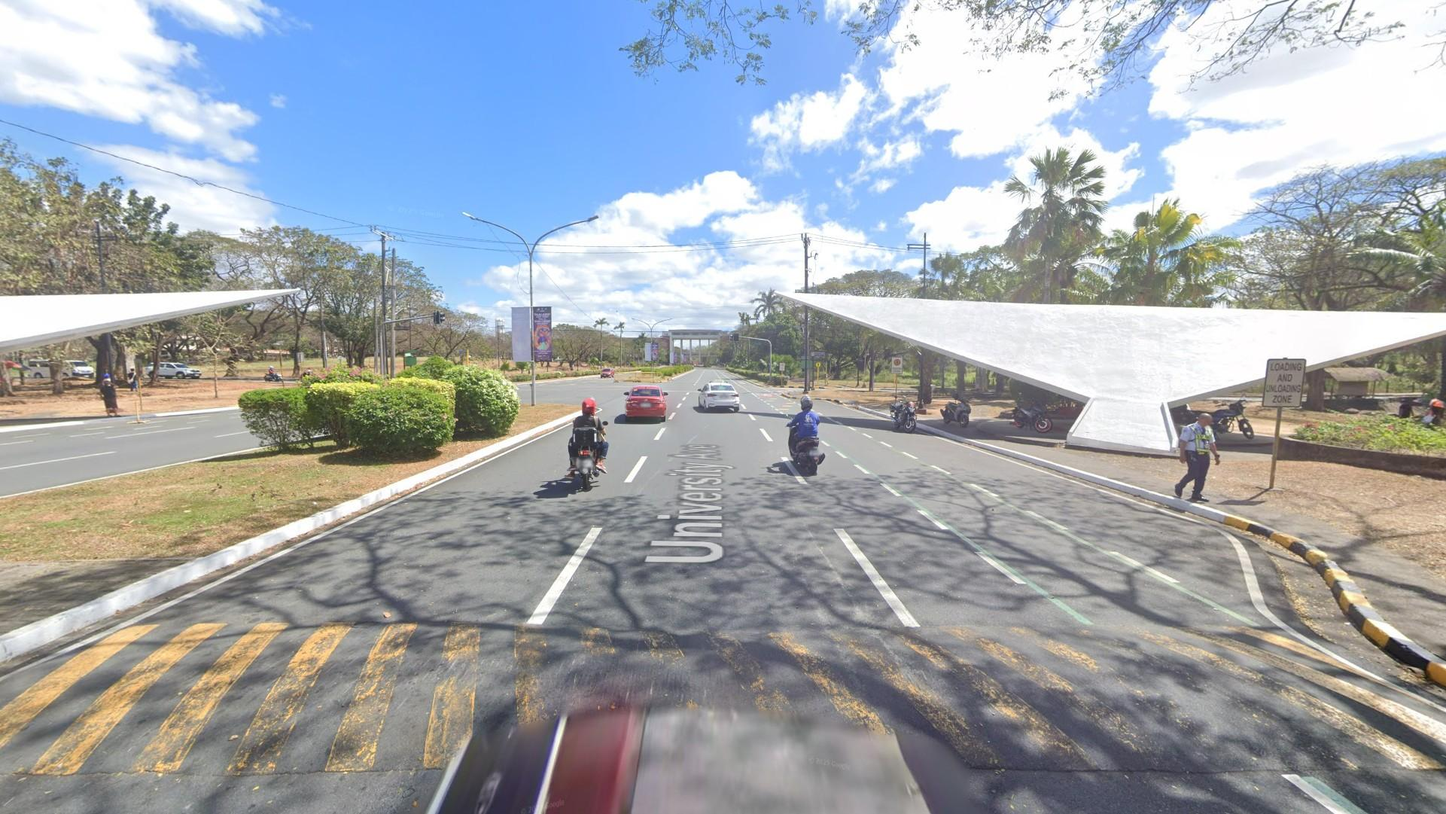pedestrian: (1173, 410, 1223, 508), (101, 373, 122, 419), (128, 367, 139, 392)
